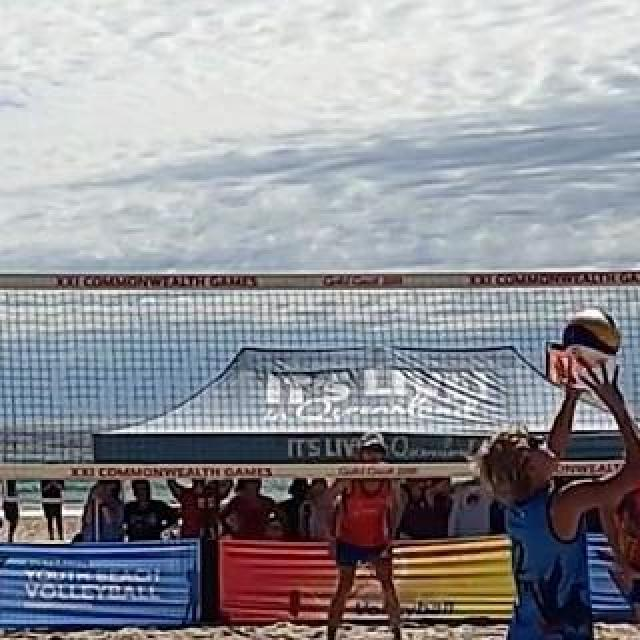volleyball: (563, 309, 621, 365)
